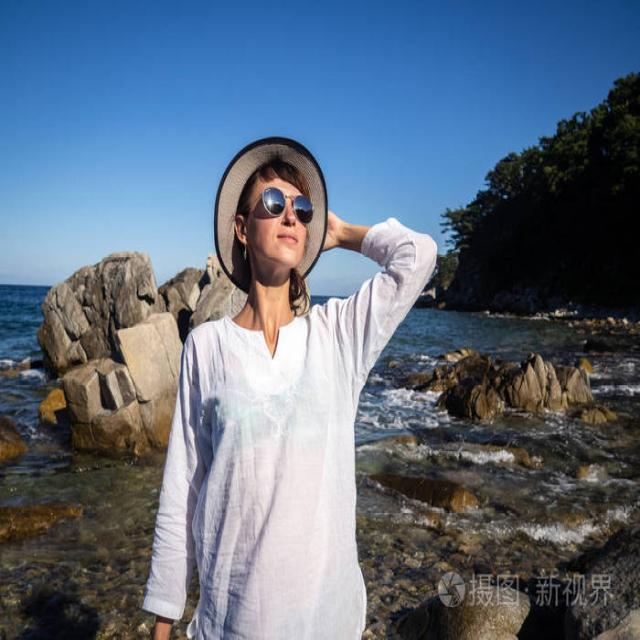reef: (428, 341, 608, 451)
